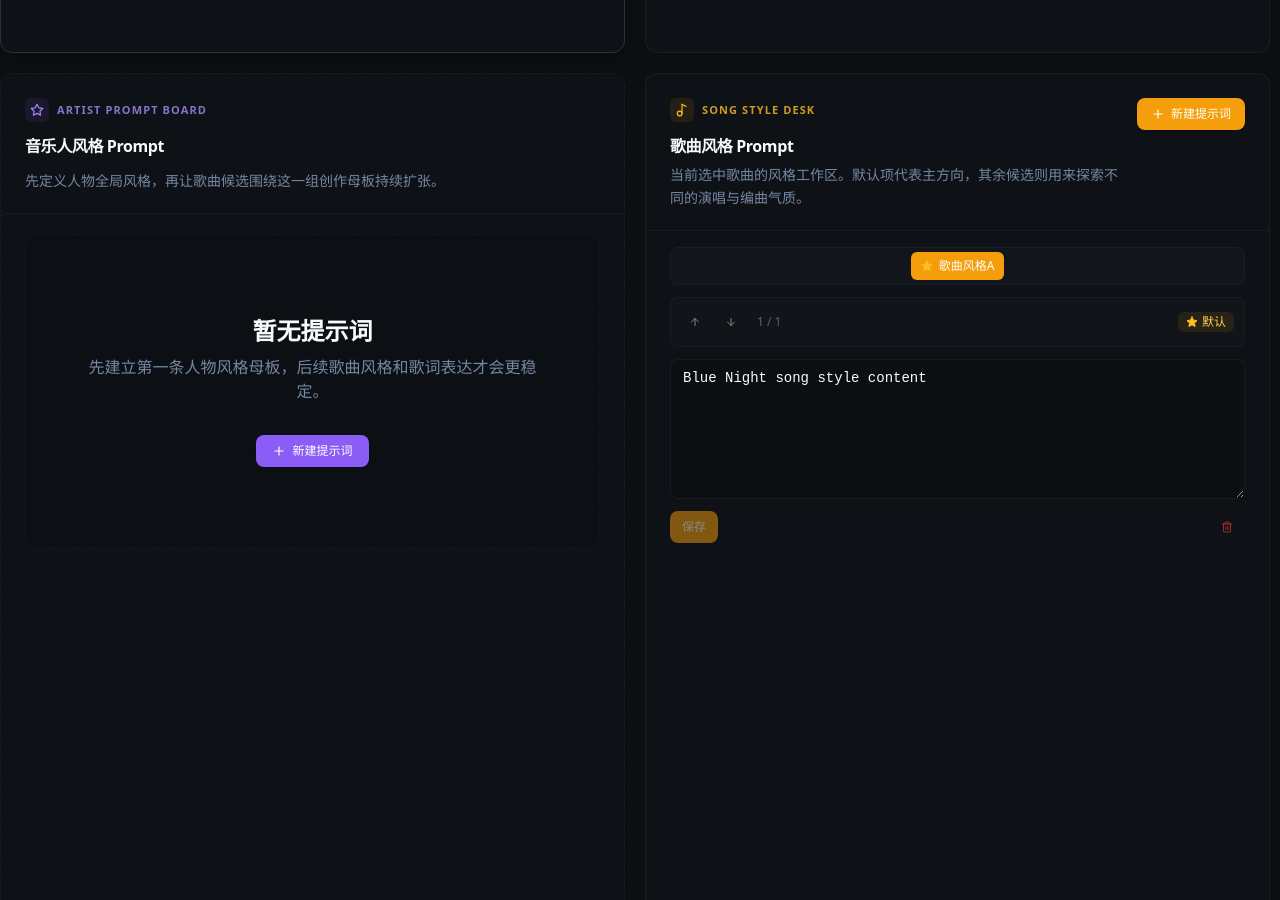
ArtistWorkspace › opens the create artist prompt dialog from the empty artist prompt state
(page scrolled)
Check: the text "音乐人风格 Prompt" is shown, box x1=25 y1=135 x2=164 y2=157
Click the button "新建提示词" below "先建立第一条人物风格母板，后续歌曲风格和歌词表达才会更稳定。": coordinates (312, 451) x1=256 y1=435 x2=368 y2=467
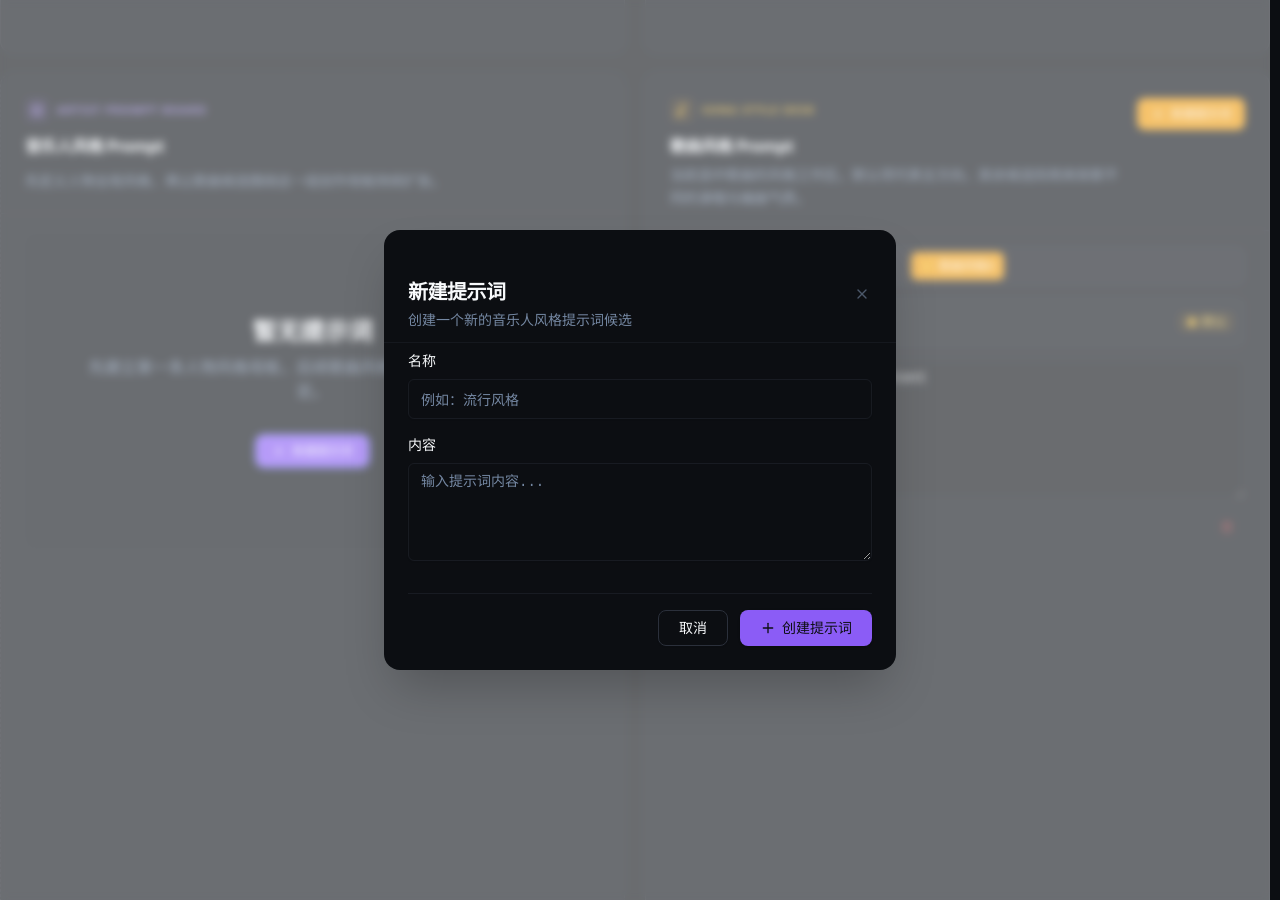
Check: the heading "新建提示词" is shown, box x1=408 y1=278 x2=506 y2=305
Check: the text "创建一个新的音乐人风格提示词候选" is shown, box x1=408 y1=310 x2=632 y2=329
